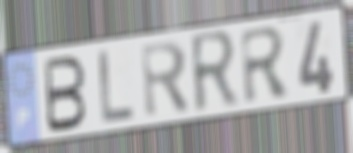4: (296, 16, 337, 97)
B: (43, 54, 89, 136)
L: (96, 47, 136, 126)
R: (187, 27, 241, 119), (238, 24, 293, 108), (138, 38, 193, 122)
